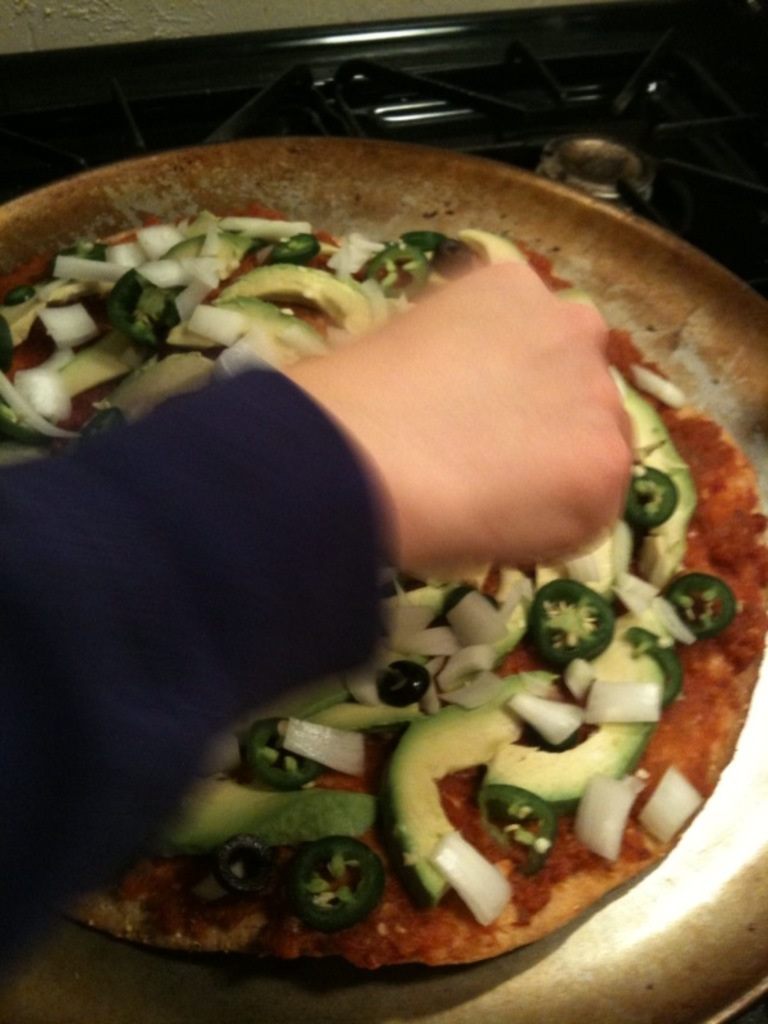Pizza: (12, 148, 759, 954)
